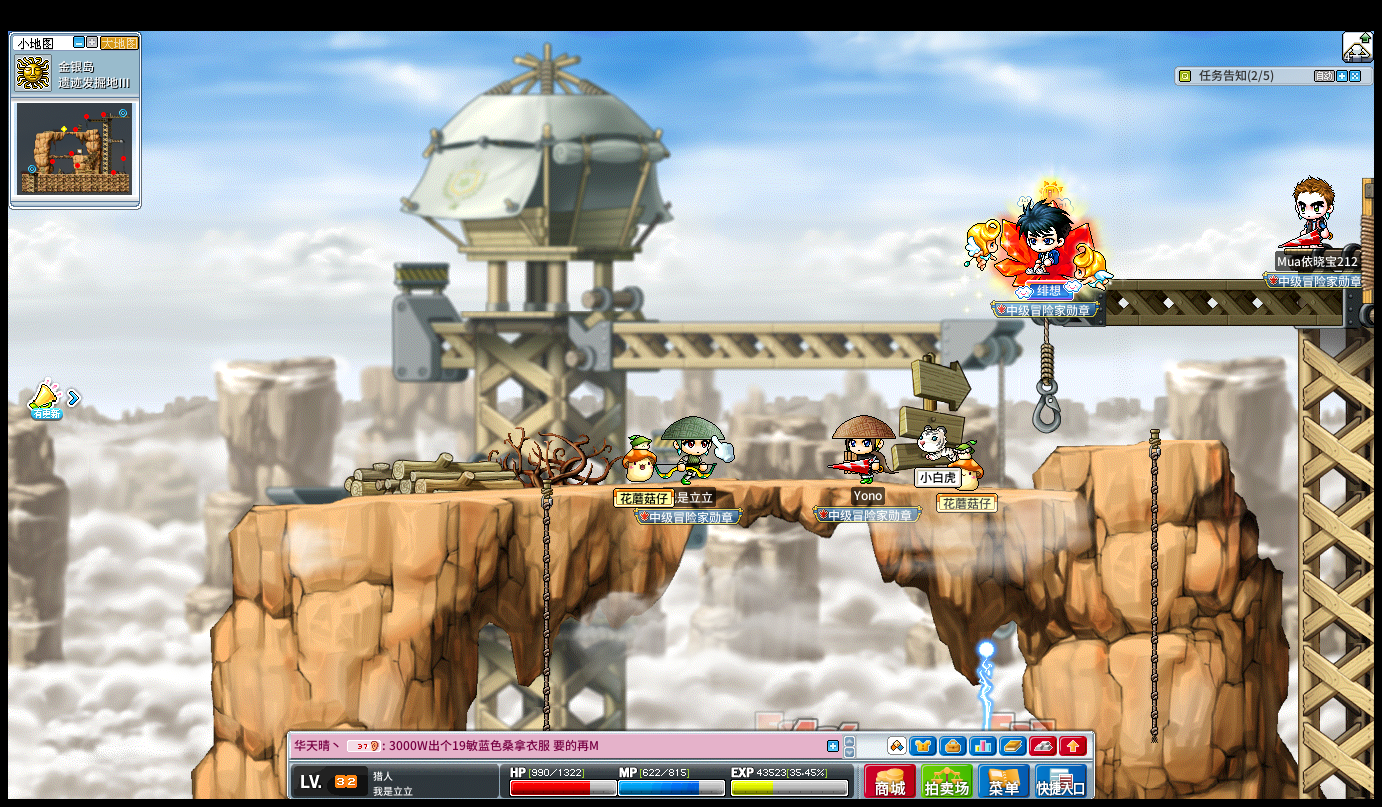floor: (224, 473, 1085, 504), (238, 475, 1109, 497), (1054, 434, 1224, 450), (1054, 438, 1228, 452)
rope: (1145, 424, 1161, 747), (538, 470, 551, 737), (540, 474, 552, 680)
